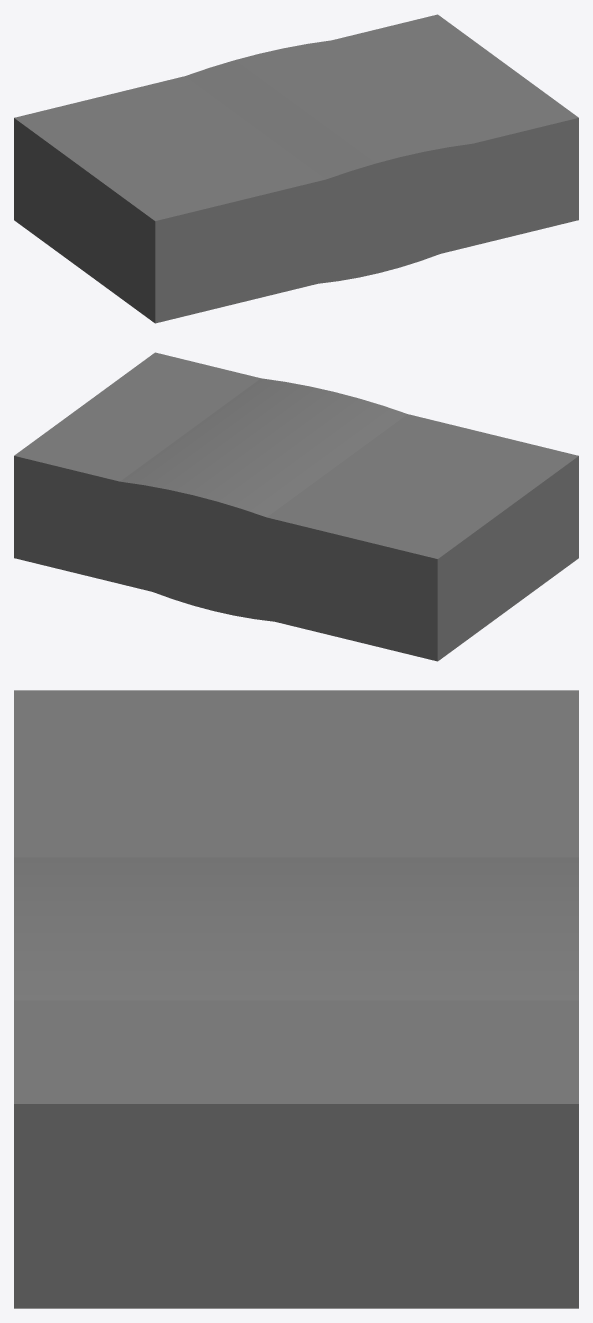
The picture shows the model from 3 angles, top to bottom: view 1: azimuth 30°, elevation 25°; view 2: azimuth 150°, elevation 25°; view 3: azimuth 270°, elevation 25°; orthographic projection. The views are drawn at different scales.
Parts seen in each view (by area): view 1: mesh_id4, mesh_id5; view 2: mesh_id4, mesh_id5; view 3: mesh_id4, mesh_id5.
Part boxes in pixels (box(x1,y1,x2,y2)): mesh_id4: box(14, 14, 578, 323); mesh_id5: box(185, 40, 472, 283); mesh_id4: box(14, 352, 578, 661); mesh_id5: box(120, 378, 407, 621); mesh_id4: box(14, 690, 578, 1308); mesh_id5: box(14, 857, 578, 1000).
Size of the model in its own units: 0.512 by 0.128 by 0.2954.
2 materials, 2 textured.
